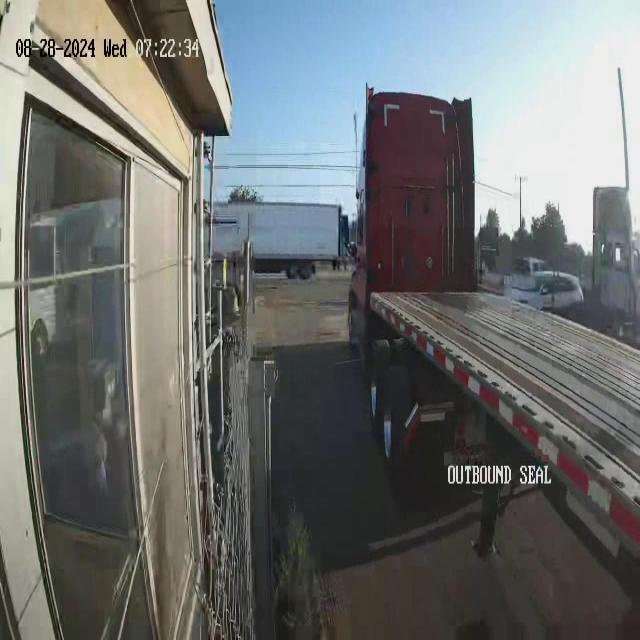BOBTAIL: (339, 73, 640, 567)
